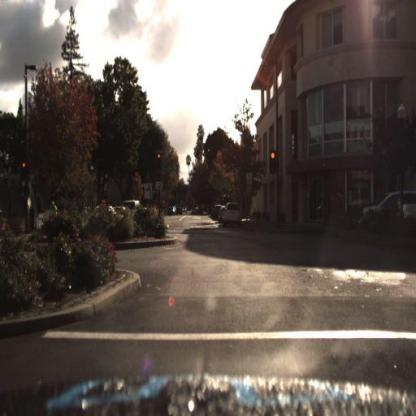biker: (44, 197, 62, 219)
car: (356, 187, 415, 233), (120, 199, 145, 227), (225, 201, 241, 229)
trafficLight-Red: (269, 148, 278, 174), (22, 156, 30, 175), (156, 145, 163, 166)
